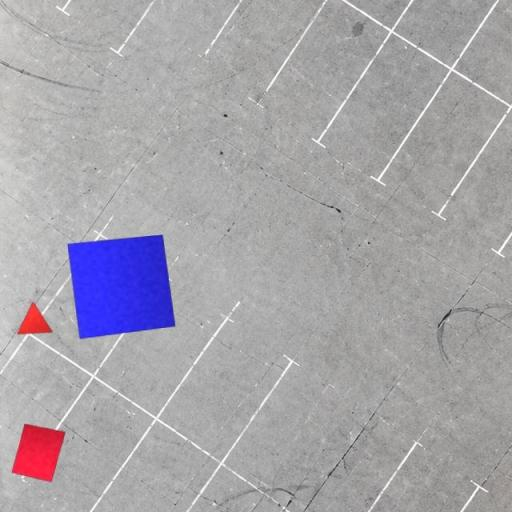BLUE_SQUARE: (66, 234, 176, 340)
RED_SQUARE: (11, 423, 66, 483)
